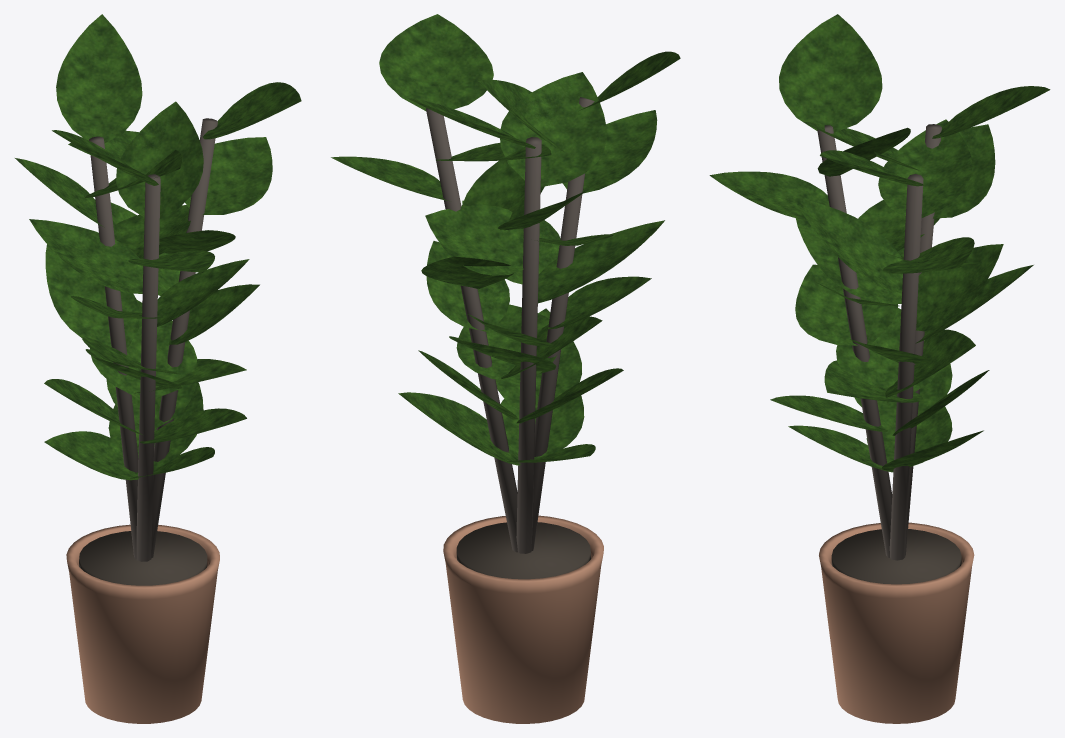
File: foyer_plant.glb
The picture shows the model from 3 angles, left to right: view 1: azimuth 30°, elevation 25°; view 2: azimuth 150°, elevation 25°; view 3: azimuth 270°, elevation 25°; orthographic projection. The views are drawn at different scales.
Visible parts, largest first — view 1: foyer_plant; view 2: foyer_plant; view 3: foyer_plant.
Part boxes in pixels (box(x1,y1,x2,y2)): foyer_plant: box(15, 14, 301, 723); foyer_plant: box(331, 14, 680, 723); foyer_plant: box(709, 14, 1050, 723).
Size of the model in its own units: 0.7254 by 1.57 by 0.7737.
4 materials, 1 textured.
